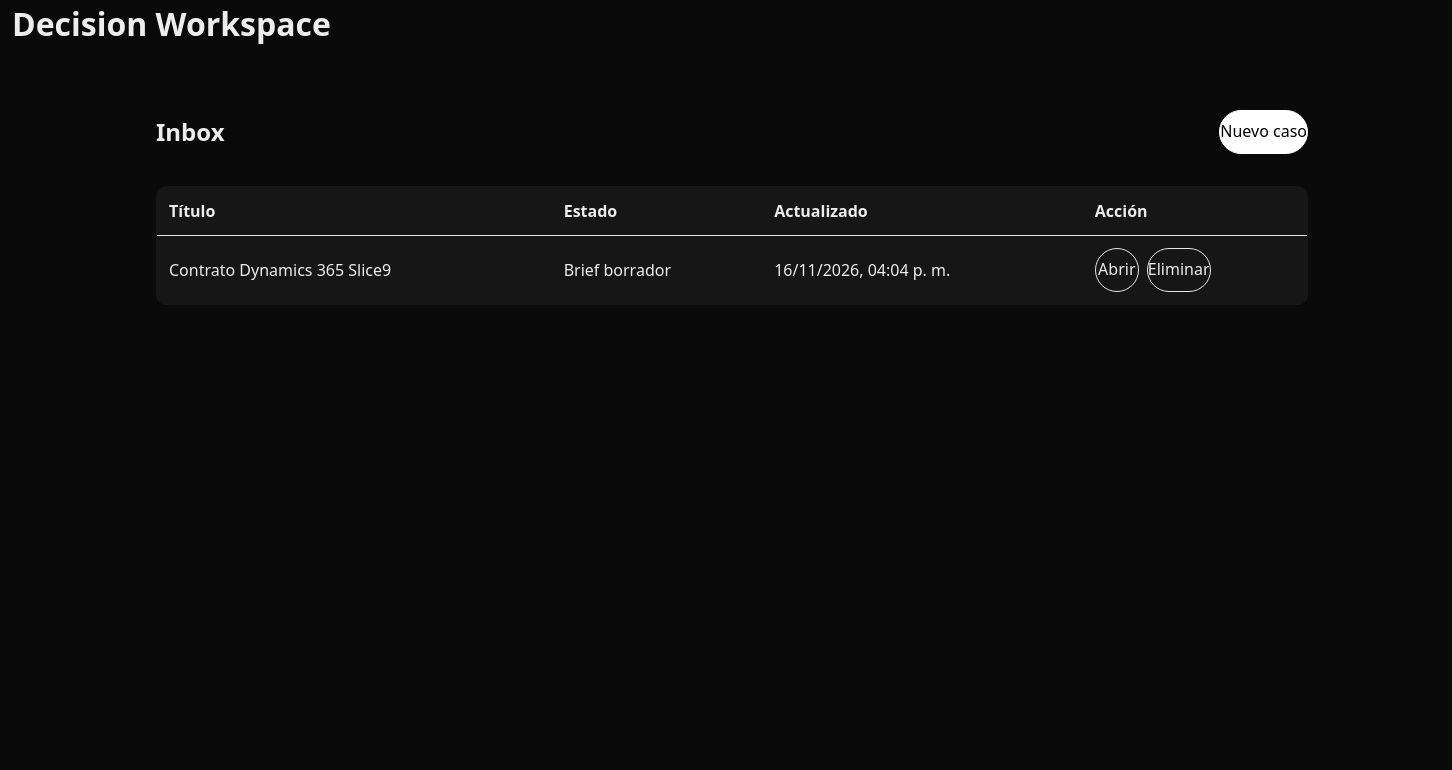
slice9 brief ui › editing keeps exact text and no additional AI calls
Step 1. Click the button "Abrir" → (1117, 270), box 1095,248 -> 1139,292
(page scrolled)
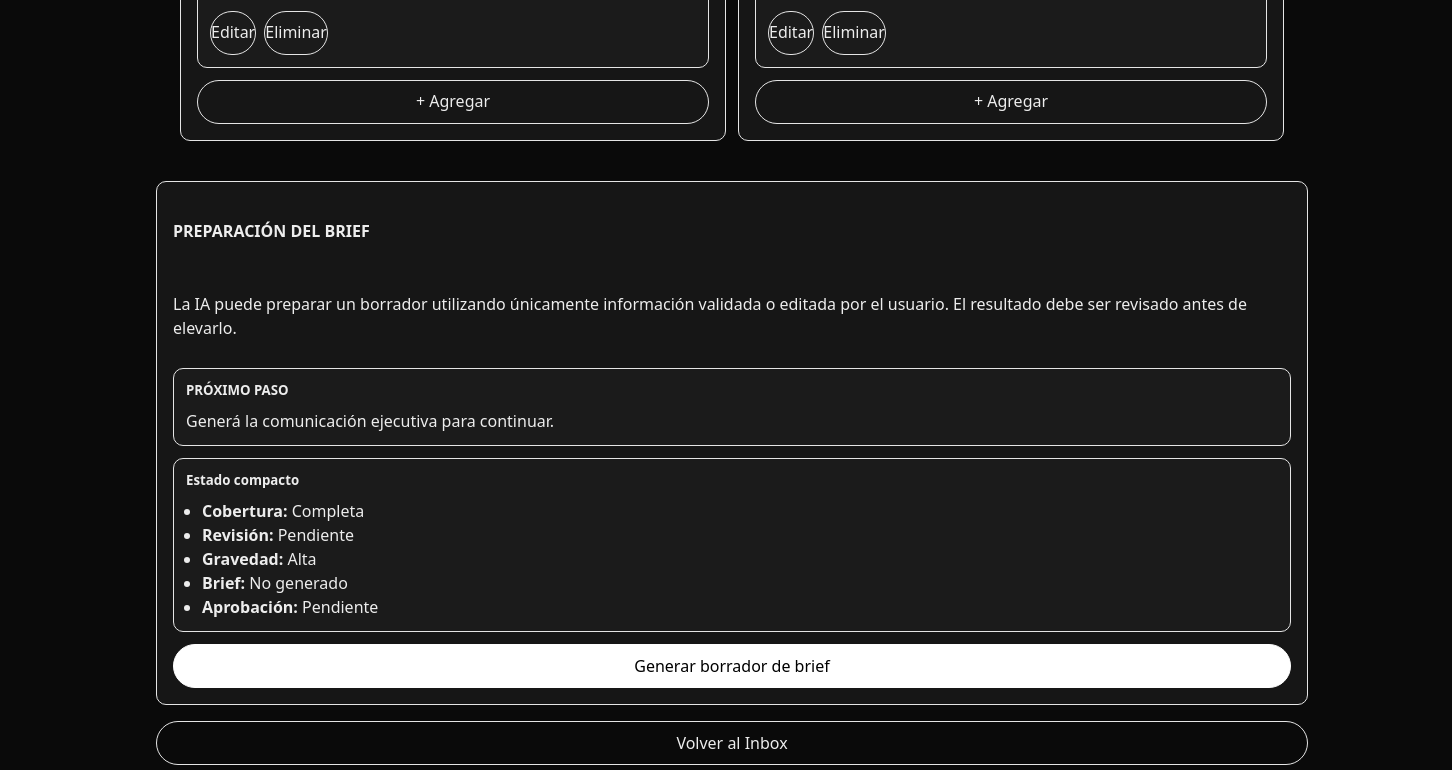
Step 2. Click the button "Generar borrador de brief" → (732, 666), box 173,644 -> 1291,688
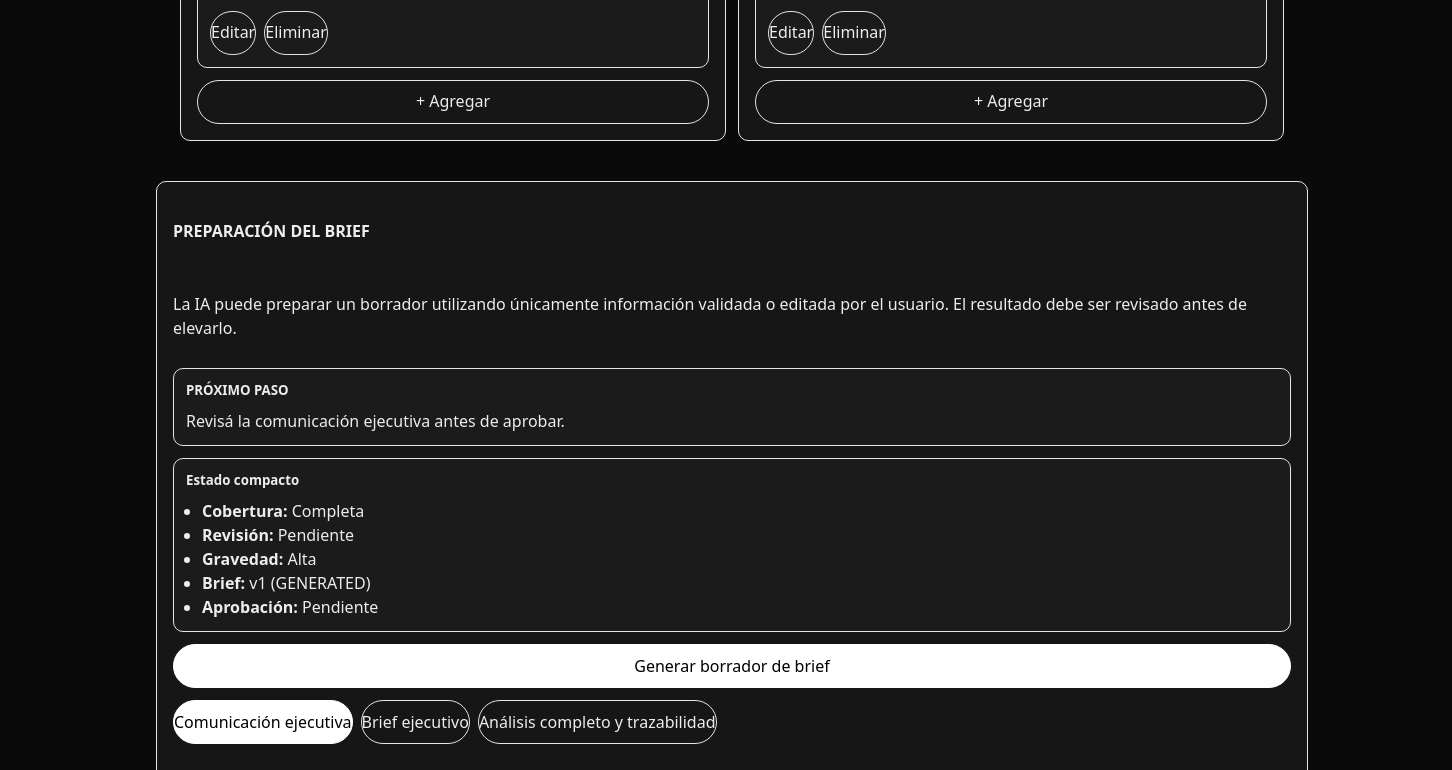
Expected: the tab "Brief ejecutivo" is shown
Step 3. Click the tab "Brief ejecutivo" → (415, 722), box 361,700 -> 470,744
(page scrolled)
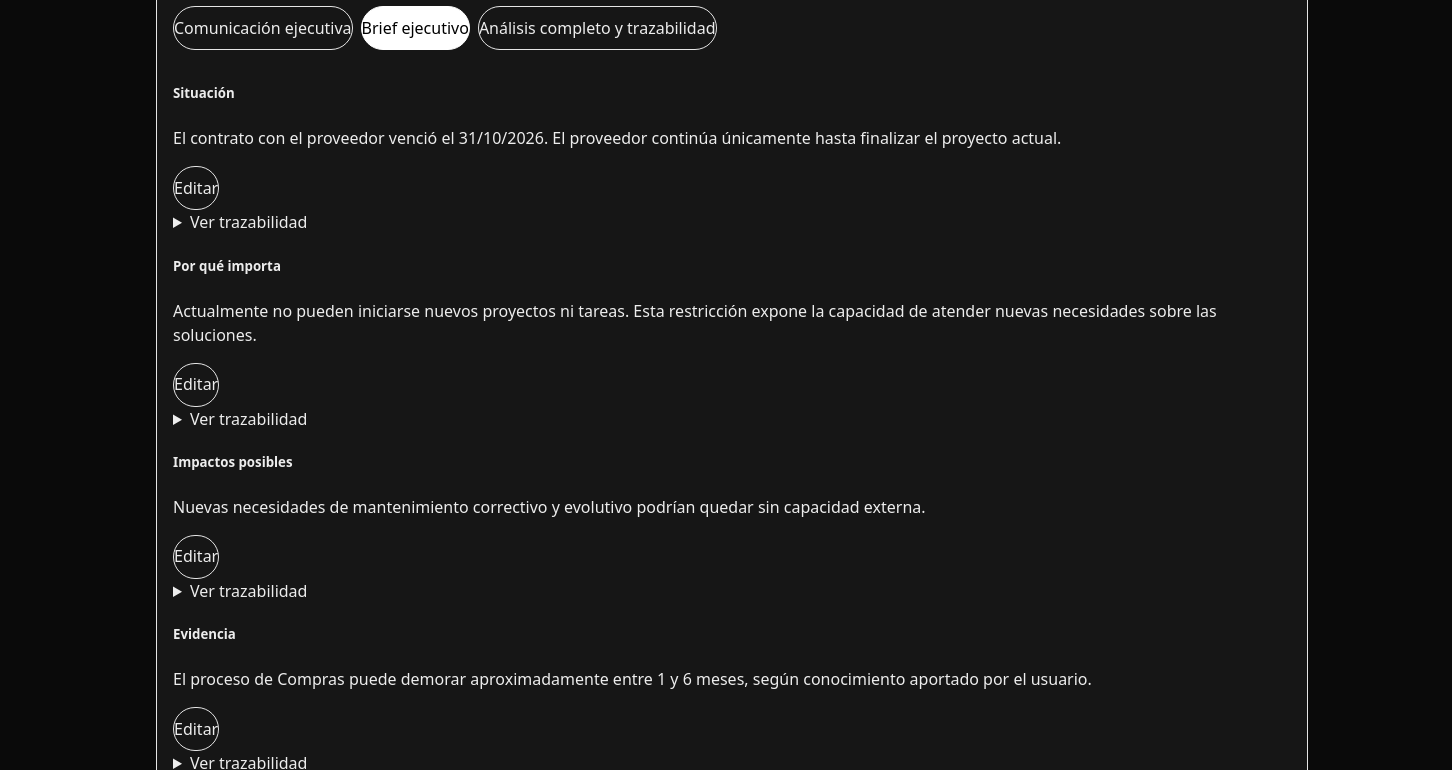
Expected: the heading "Por qué importa" is shown, 173,257 -> 281,275
Step 4. Click the button with aria-label "Editar Por qué importa" → (196, 385), box 173,363 -> 219,407
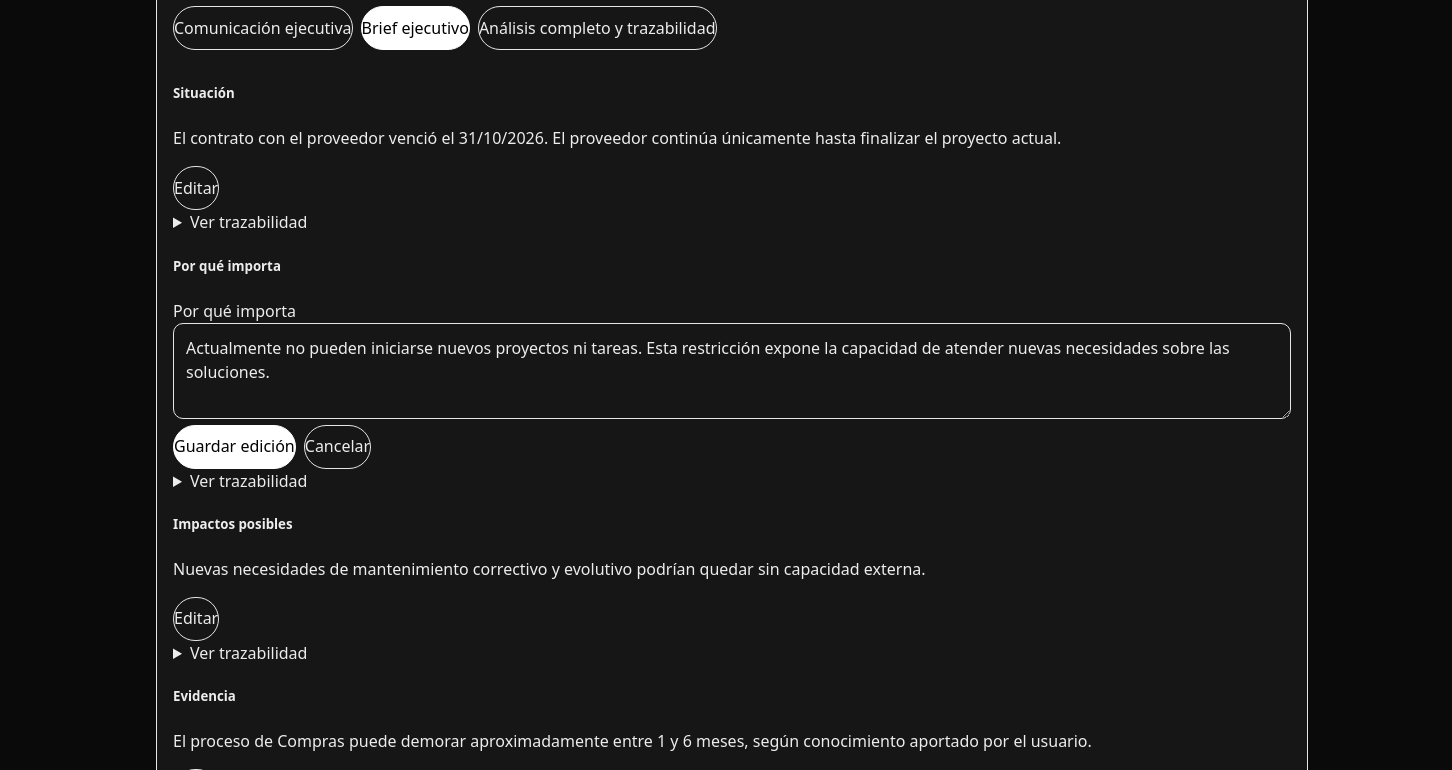
Step 5. Replace the text in the text box labelled "Por qué importa" with "La restricción impide iniciar nuevos proyectos o tareas y puede limitar la atención externa de nuevas necesidades." → (732, 371), box 173,323 -> 1291,419
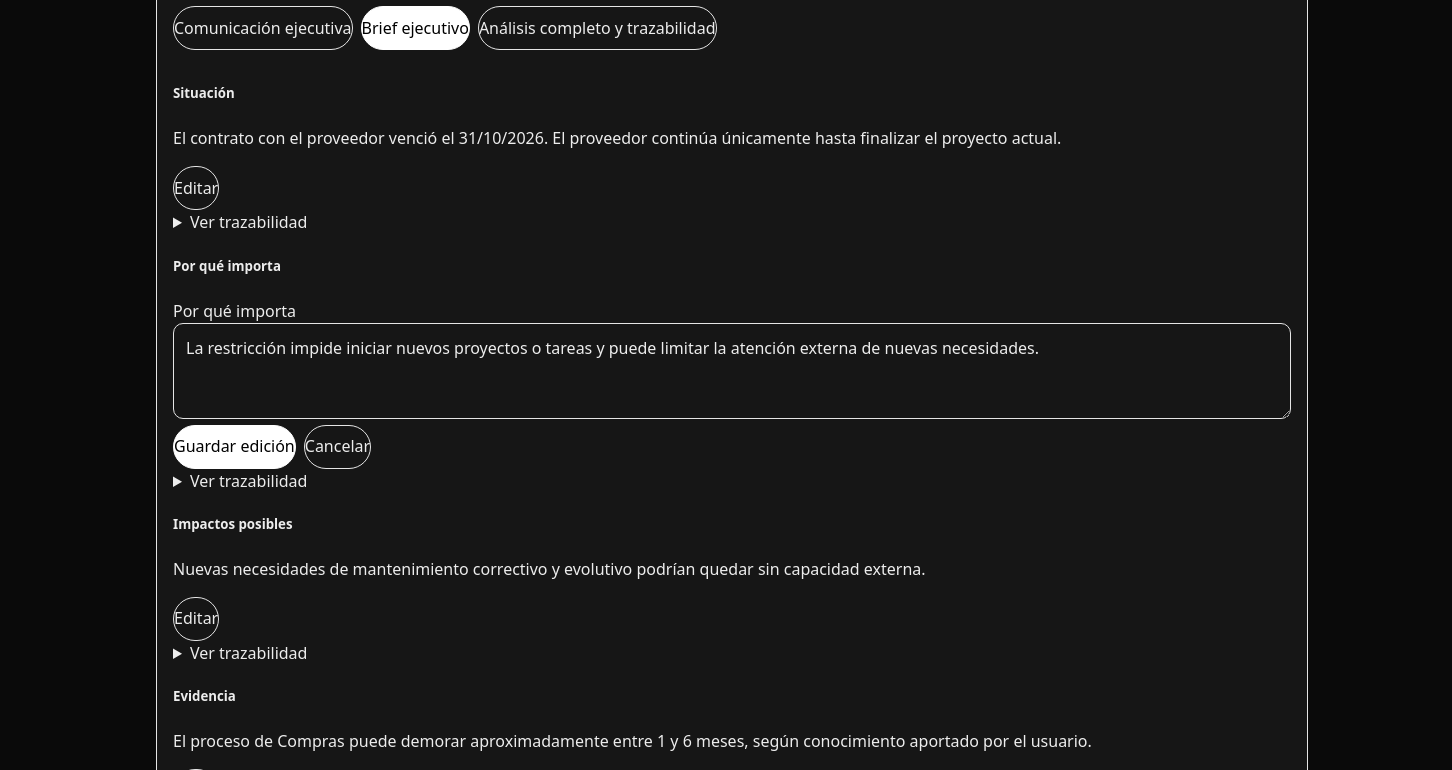
Step 6. Click the button "Guardar edición" → (234, 447), box 173,425 -> 296,469
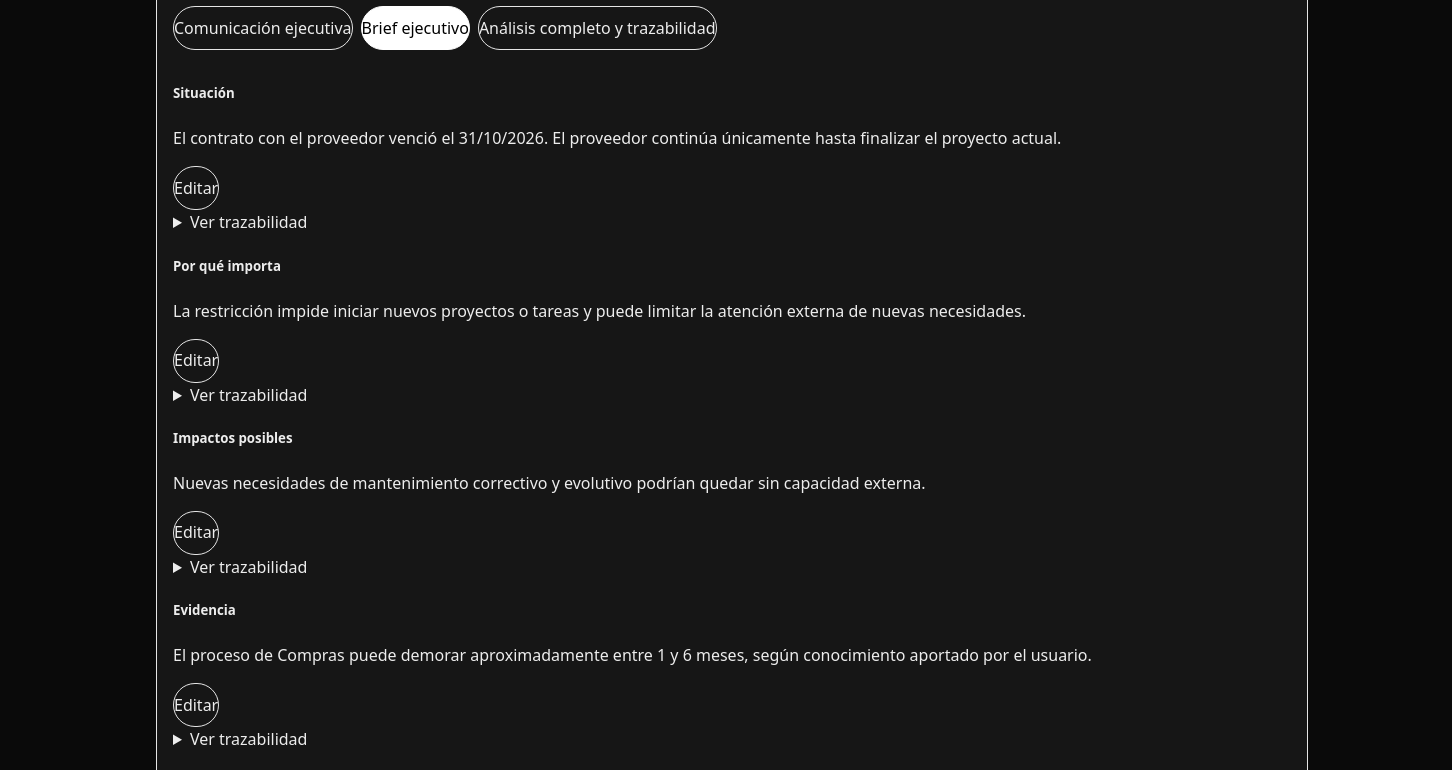
Expected: the text "La restricción impide iniciar nuevos proyectos o tareas y puede limitar la atención externa de nuevas necesidades." is shown, 173,300 -> 1026,322
